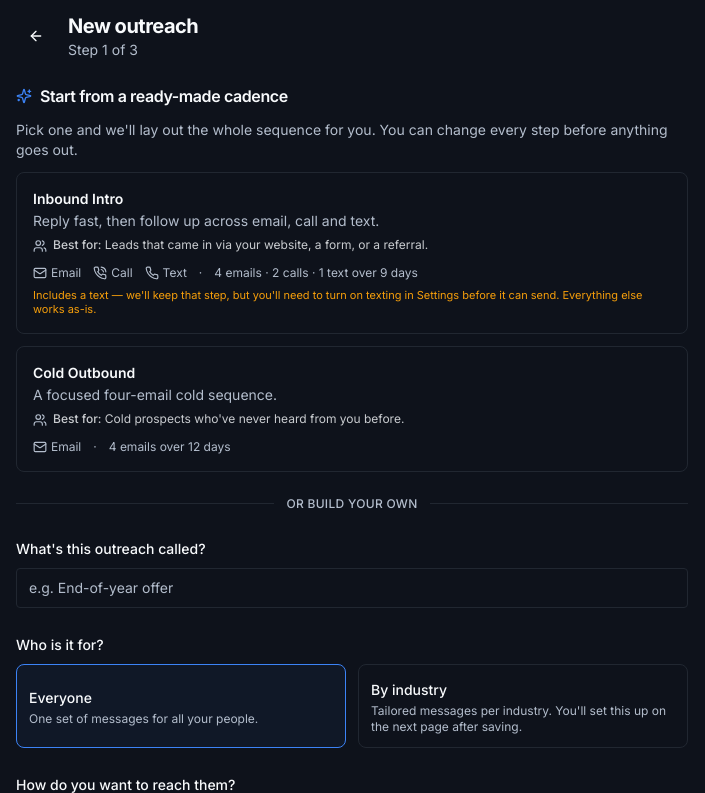
NewCampaign — starter cadence prefills the editable plan › does NOT create a campaign on pick — it drops into the editable plan
The width and height of the screenshot is (705, 793).
Click the button "Inbound Intro": (352, 253) [16,172,688,334]
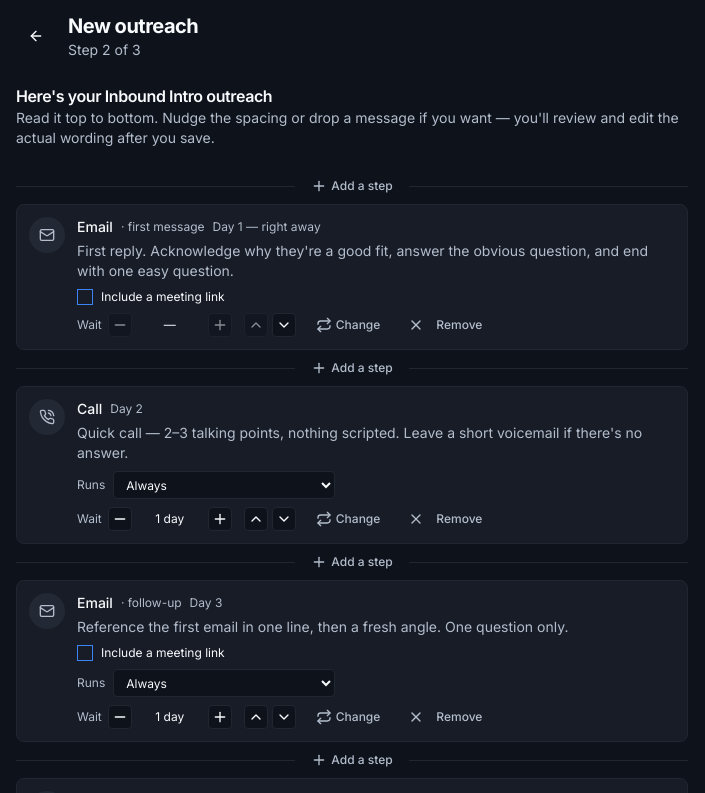
Result: the heading "Here's your Inbound Intro outreach" is shown at [16,86,272,106]
